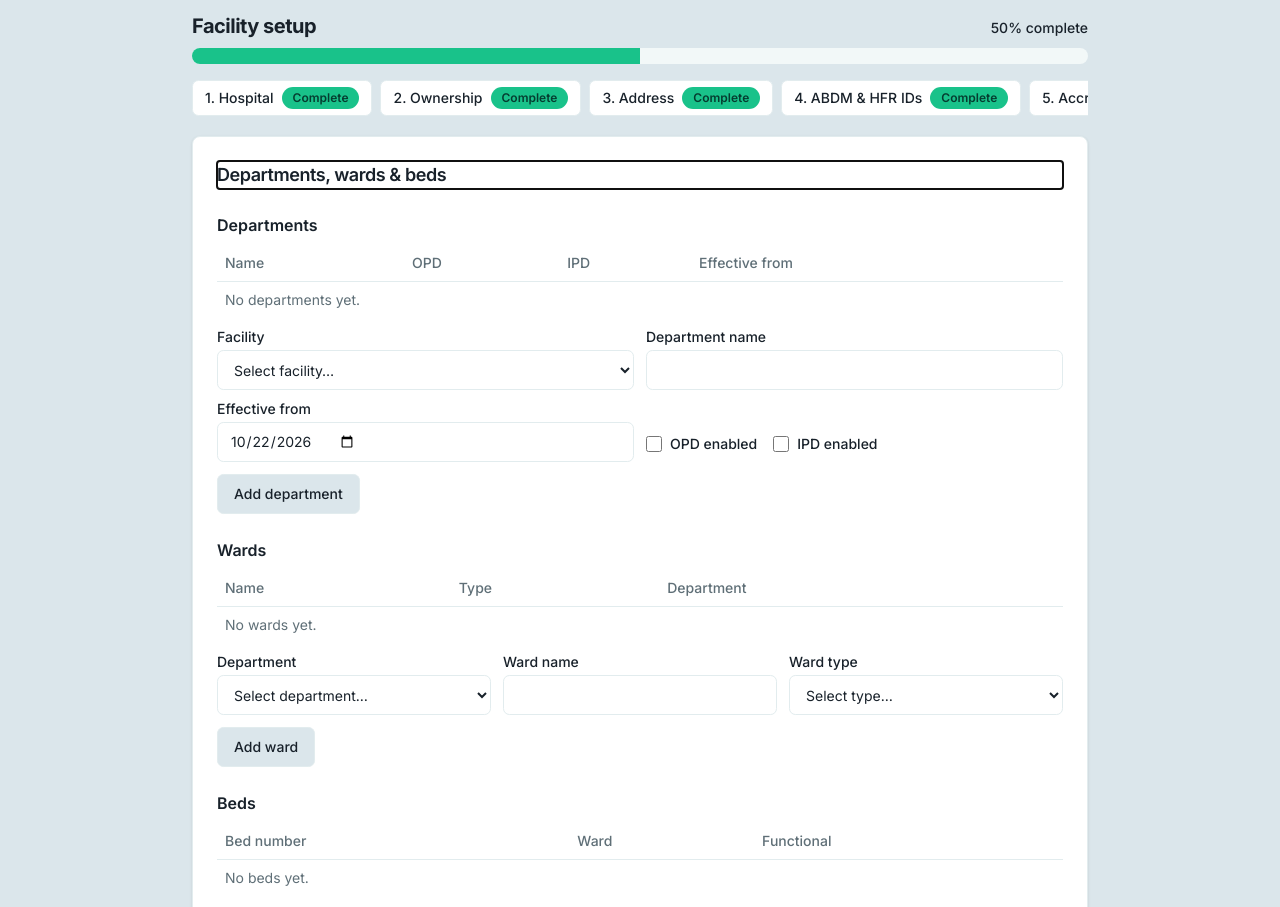
Test: SetupWizard › surfaces a failed department add as an explicit alert, not a silent no-op
Expected: the heading "Departments, wards & beds" is shown, [217, 164, 446, 185]
Select "Main Campus" in the dropdown labelled "Facility". click: [426, 370]
box: [217, 350, 634, 390]
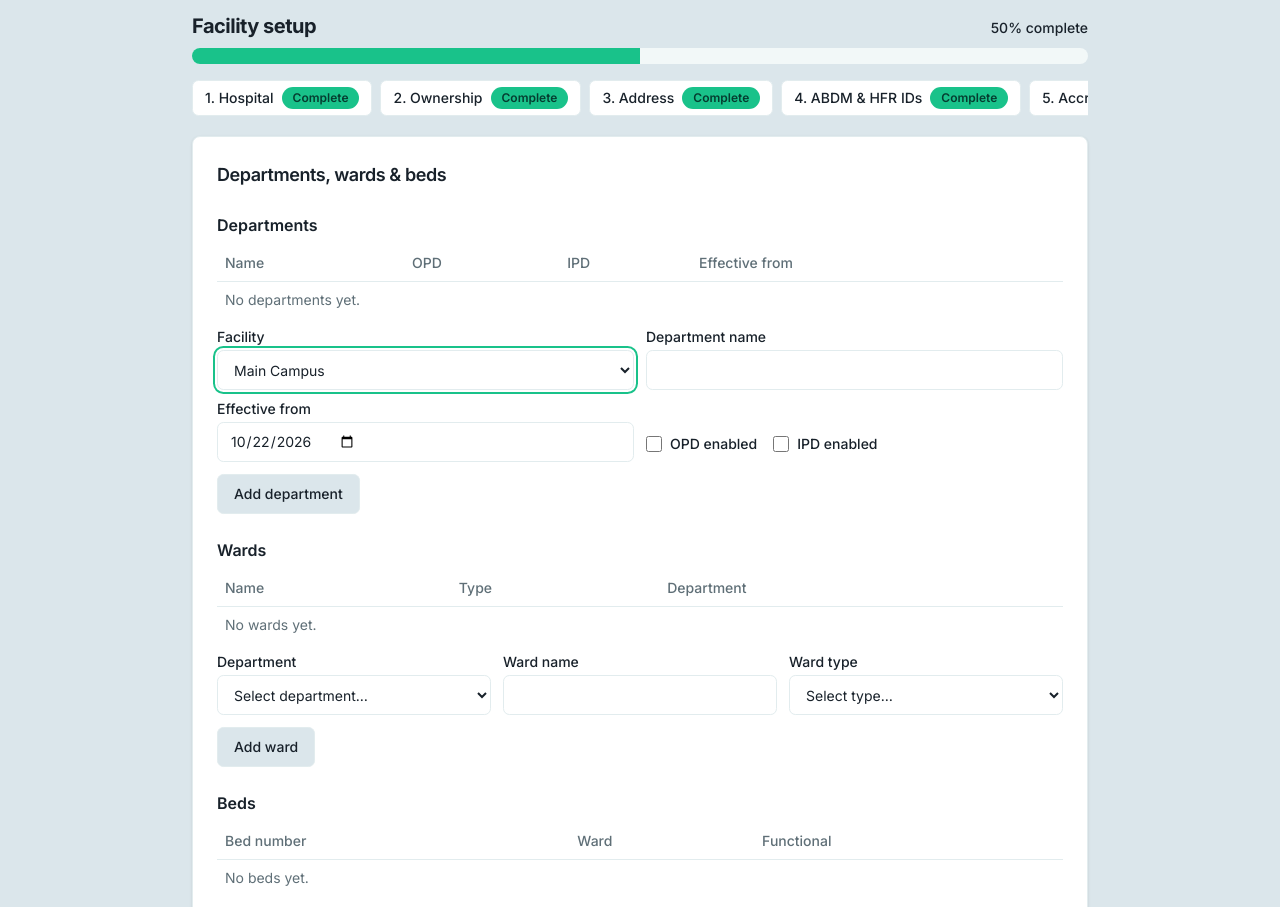
Type "Cardiology" into the field labelled "Department name". click: [854, 370]
box: [646, 350, 1063, 390]
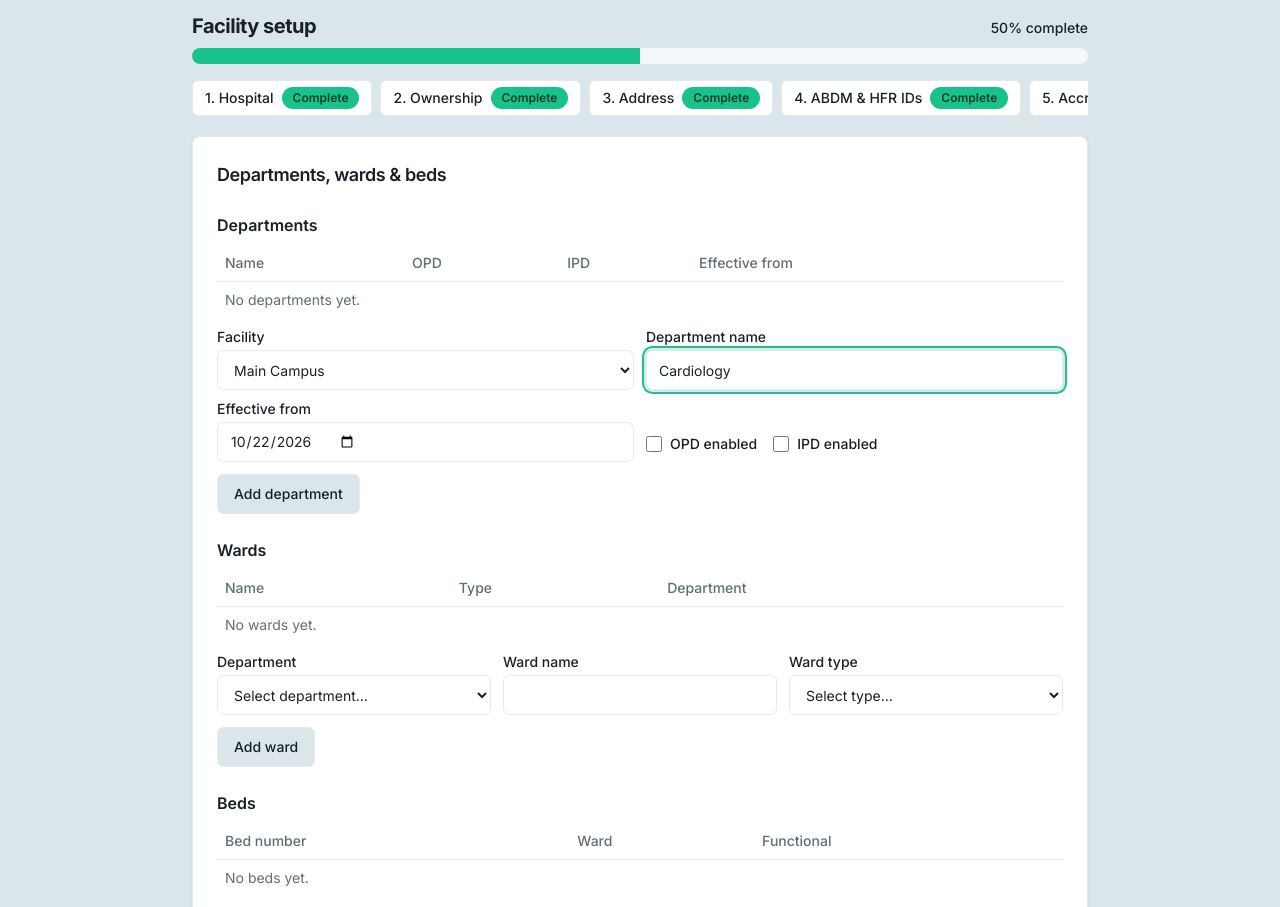
Click the button "Add department". click: [288, 494]
box: [217, 474, 360, 514]
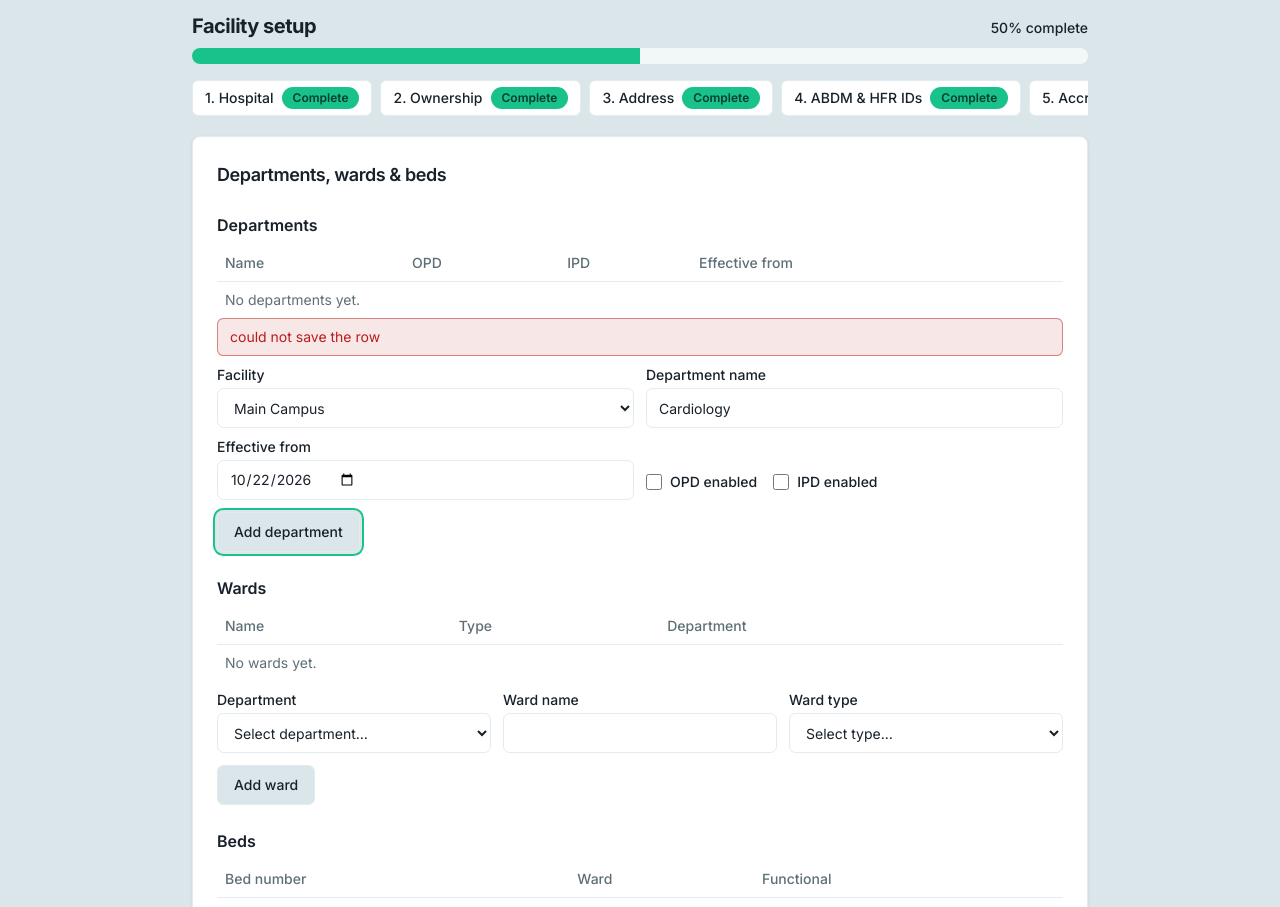
Expected: the message "could not save the row" is shown, [217, 318, 1063, 356]
